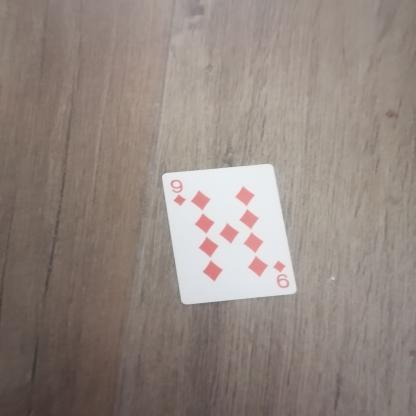9D: (272, 258, 306, 296), (167, 174, 196, 216)
